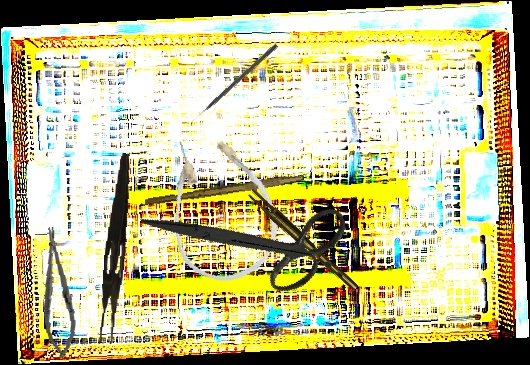Cannula: (154, 122, 288, 291)
Dressing Forceps: (98, 152, 133, 345)
Iris Scissors: (140, 143, 362, 336)
Needle Holder: (36, 225, 79, 360)
Pusher: (189, 42, 279, 124)
Scalpel Handle: (144, 170, 305, 209)
Tissue Forceps: (246, 184, 359, 297)
